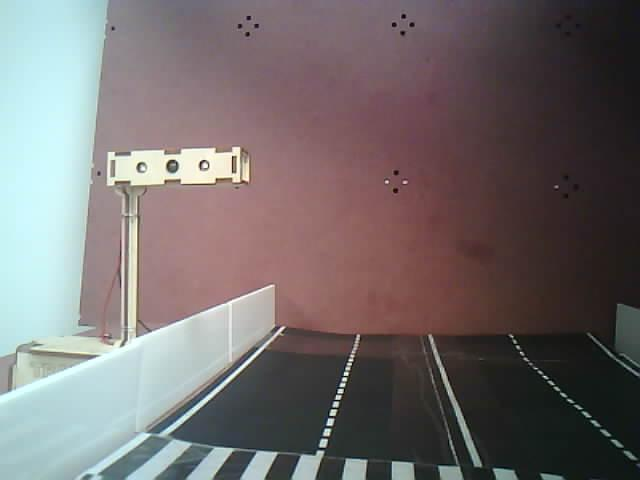crosswalk: (69, 410, 597, 480)
no: (94, 141, 263, 363)
